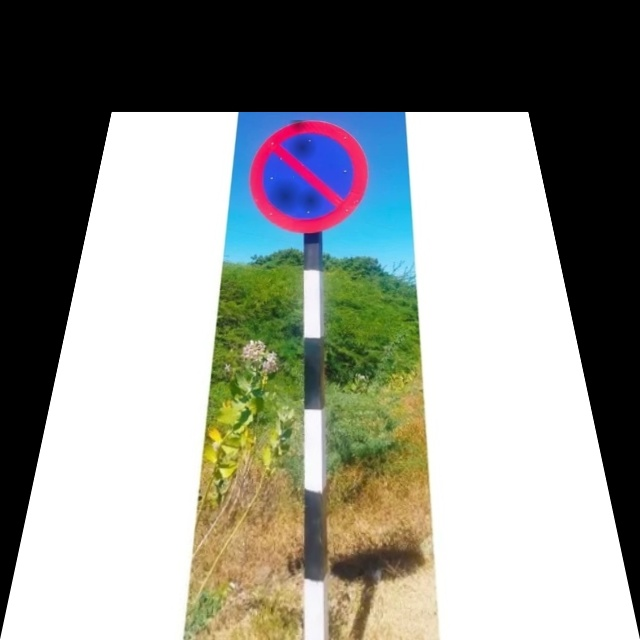No_Stopping_or_Standing: (251, 120, 365, 232)
